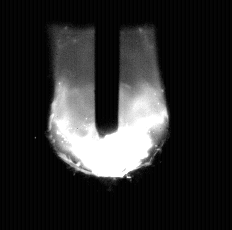arame: (96, 0, 120, 138)
poca: (48, 0, 168, 230)
